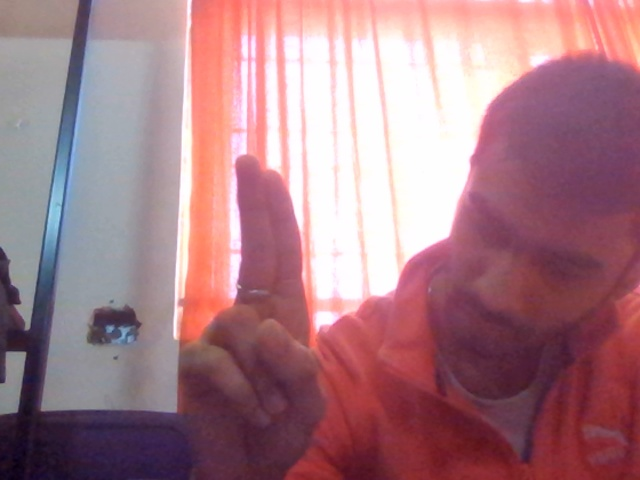U: (157, 144, 380, 480)
